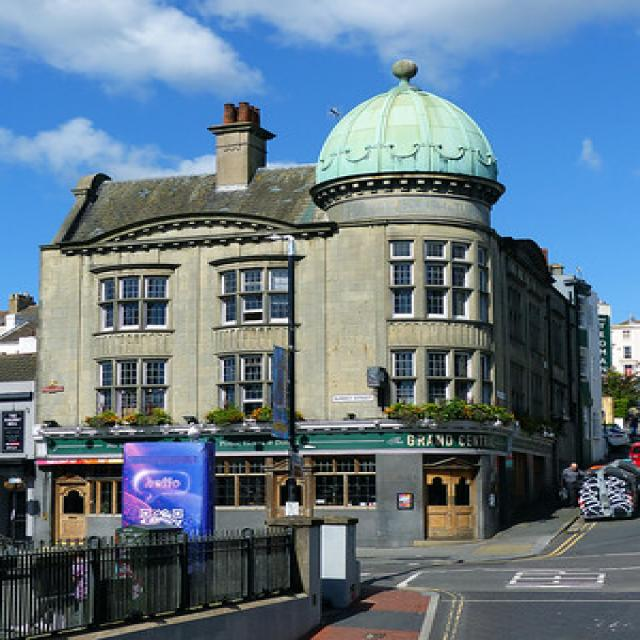Normal_building: (30, 58, 591, 554)
